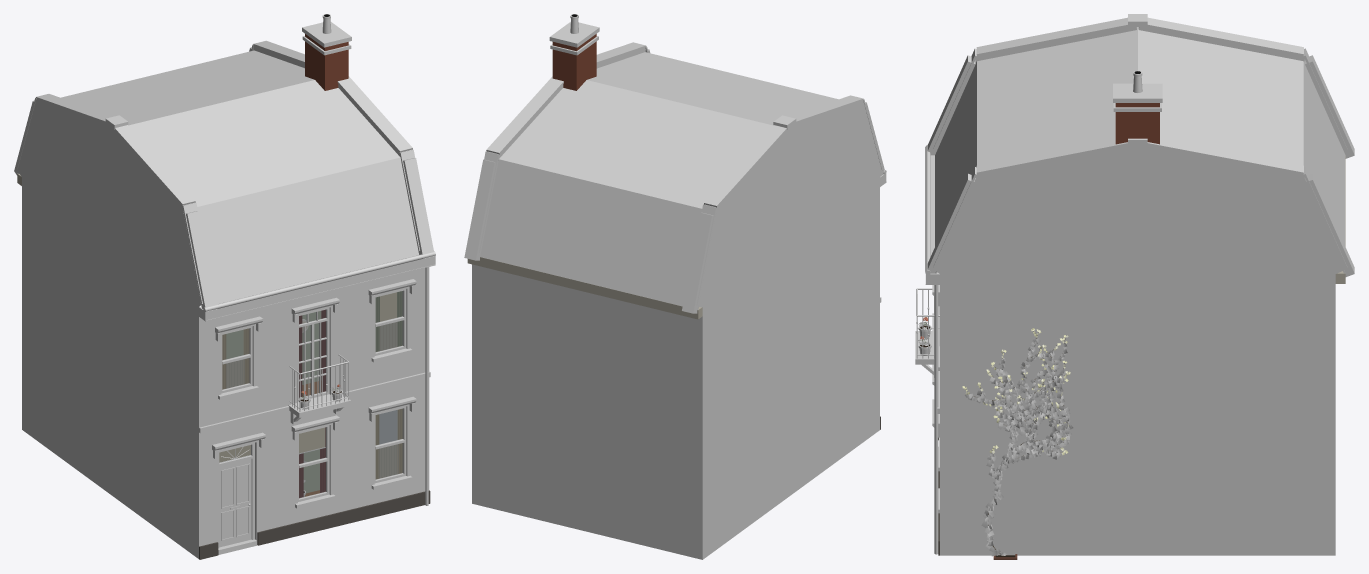
File: StraightEnd_Outer4.glb
3 renders of one model, left to right at view 1: azimuth 30°, elevation 25°; view 2: azimuth 150°, elevation 25°; view 3: azimuth 270°, elevation 25°, orthographic. The views are drawn at different scales.
Visible parts, largest first — view 1: StraightEnd_Outer4; view 2: StraightEnd_Outer4; view 3: StraightEnd_Outer4.
Part boxes in pixels (x1=…): StraightEnd_Outer4: x1=14, y1=14, x2=435, y2=559; StraightEnd_Outer4: x1=464, y1=14, x2=886, y2=559; StraightEnd_Outer4: x1=915, y1=14, x2=1354, y2=559.
Size of the model in its own units: 6.21 by 10.61 by 8.89.
